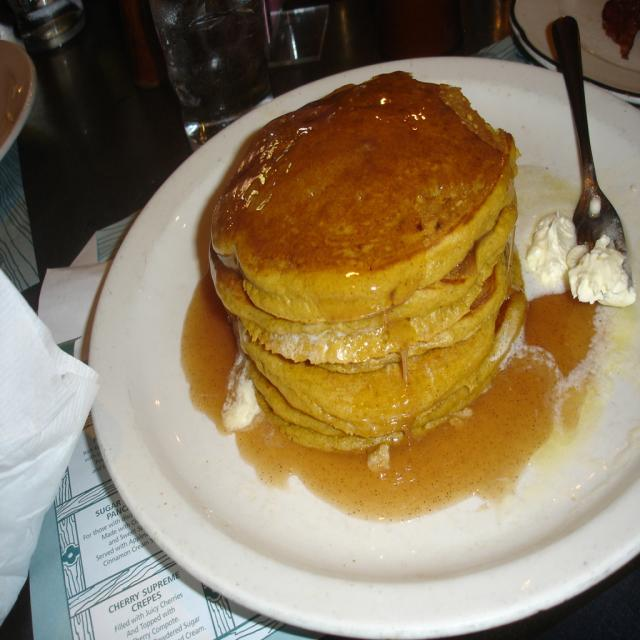Pancake: (210, 83, 514, 321)
